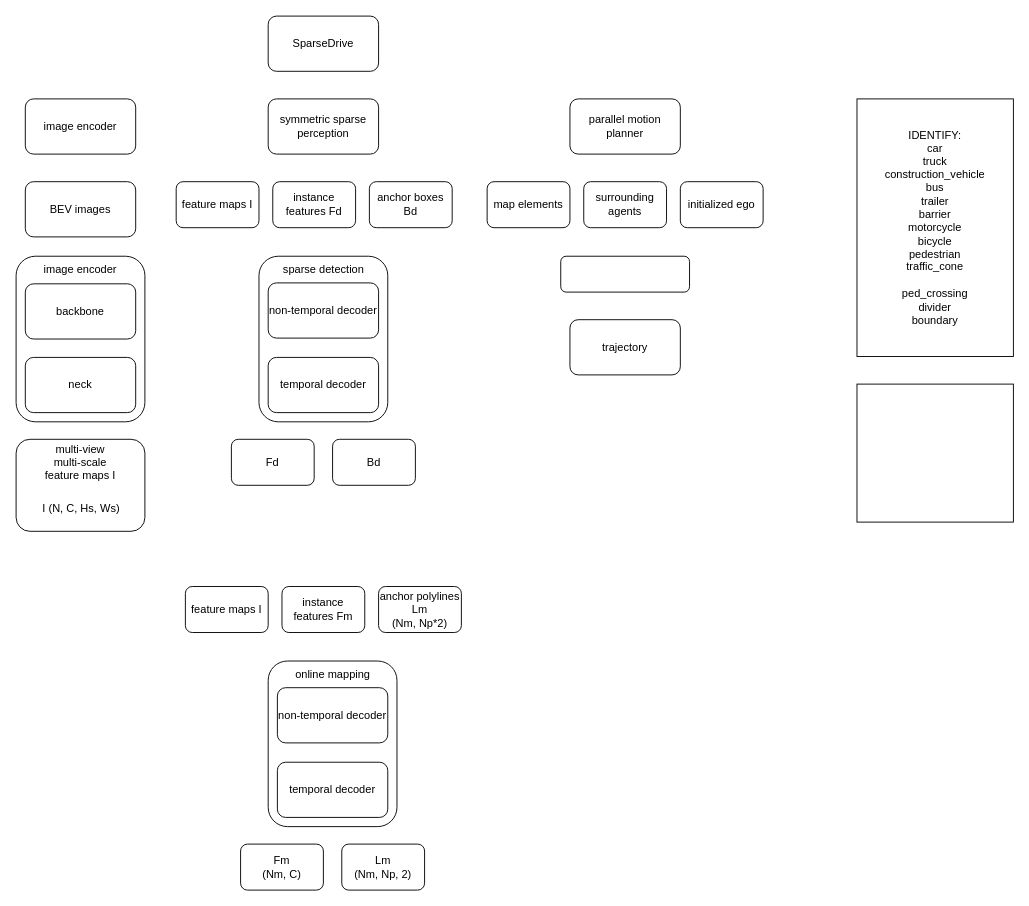
Image size: 1029x906. Some labels were removed from this diagram. Here are the shapes that lost their labels. From the top down, the centre of each, then its label:
At [625,273]: "motion planner".
At [934,452]: "SparseDriveHead: gnn norm deformable ffn norm refine".
